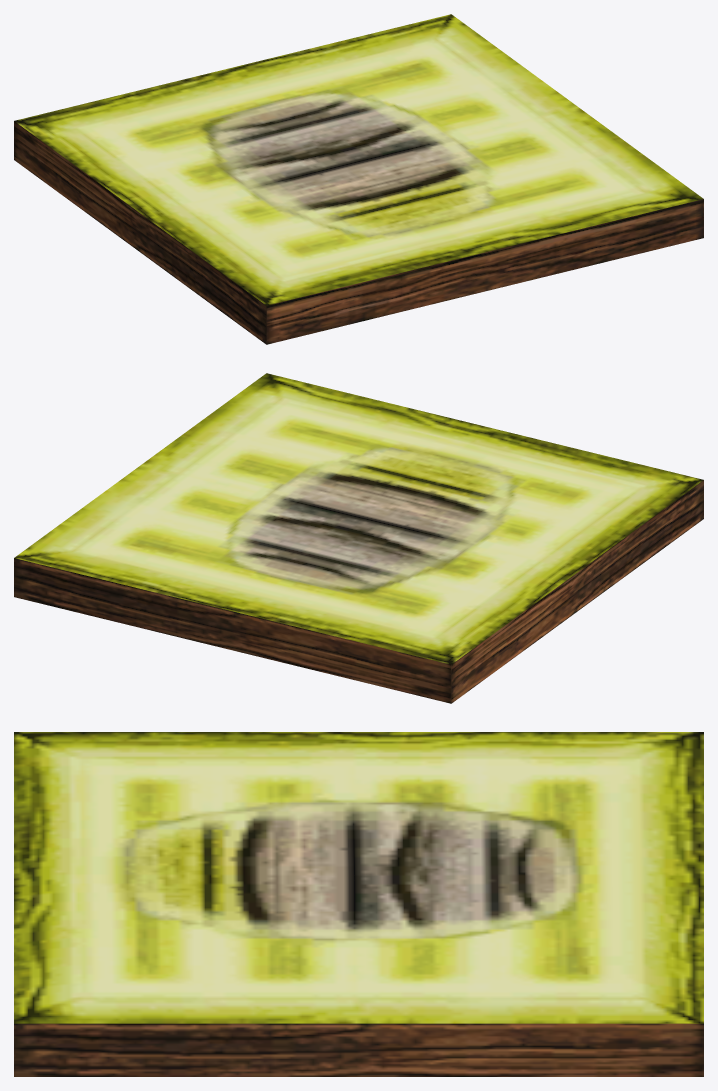
The model's file is INST_LT_PPLATELITE_ON.fbx.
3 views of the same model, one above another, from view 1: azimuth 30°, elevation 25°; view 2: azimuth 150°, elevation 25°; view 3: azimuth 270°, elevation 25° (orthographic). The views are drawn at different scales.
Parts seen in each view (by area): view 1: INST_LT_PPLATELITE_ON; view 2: INST_LT_PPLATELITE_ON; view 3: INST_LT_PPLATELITE_ON.
Boxes of the visible parts, <box> form: INST_LT_PPLATELITE_ON: <box>14,14,703,344</box>; INST_LT_PPLATELITE_ON: <box>14,373,703,703</box>; INST_LT_PPLATELITE_ON: <box>14,732,703,1076</box>.
Size of the model in its own units: 20000 by 1705 by 20000.
2 materials, 2 textured.
